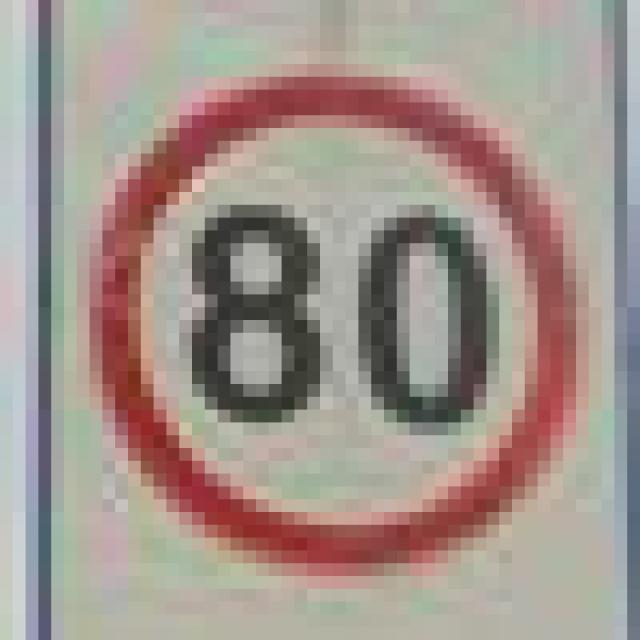SPEED_LIMIT_80: (90, 64, 563, 550)
